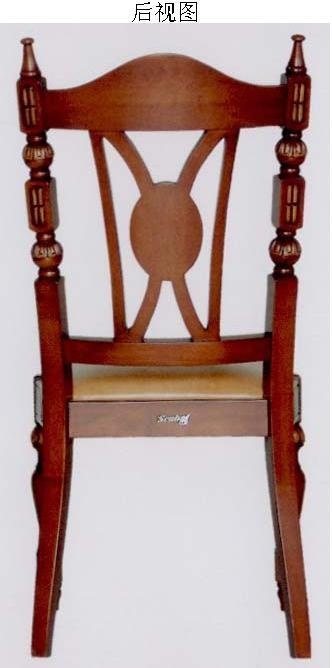obstacle: (17, 35, 310, 657)
